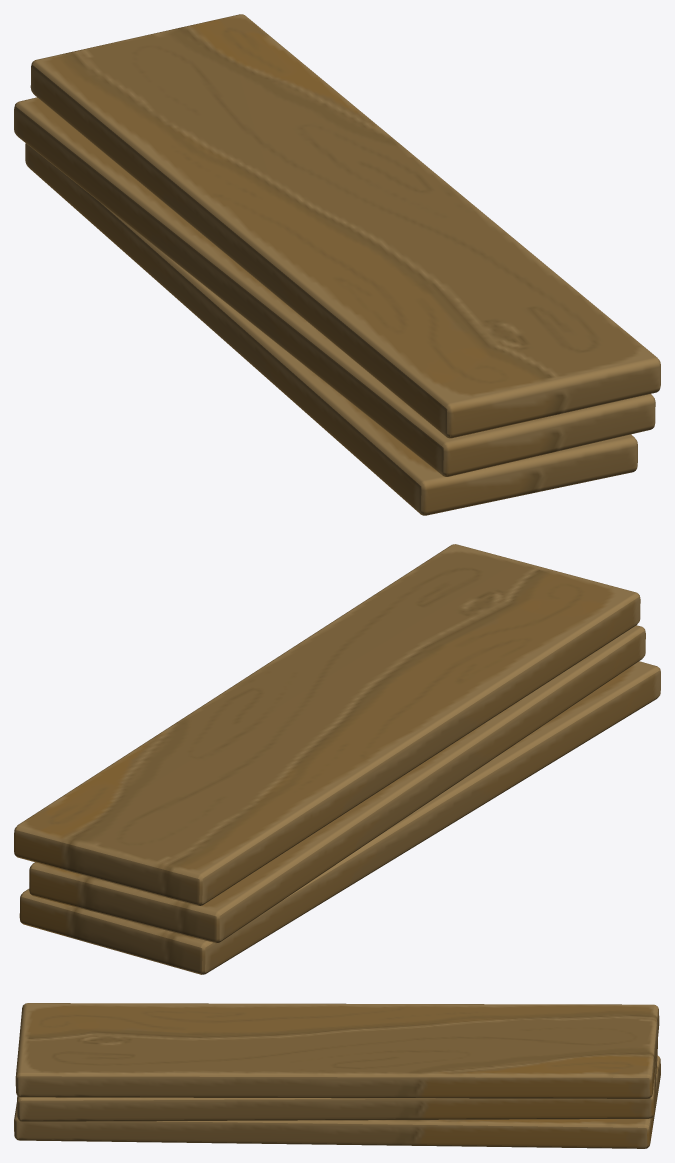
Rendered from Plankor_pussel1.fbx.
3 renders of one model, top to bottom at view 1: azimuth 30°, elevation 25°; view 2: azimuth 150°, elevation 25°; view 3: azimuth 270°, elevation 25°, orthographic. The views are drawn at different scales.
Parts seen in each view (by area): view 1: polySurface53, polySurface54, polySurface52; view 2: polySurface53, polySurface54, polySurface52; view 3: polySurface53, polySurface52, polySurface54.
Part boxes in pixels (x1=…): polySurface53: x1=30, y1=14, x2=660, y2=438; polySurface54: x1=14, y1=97, x2=655, y2=476; polySurface52: x1=25, y1=143, x2=637, y2=515; polySurface53: x1=14, y1=544, x2=640, y2=905; polySurface54: x1=29, y1=625, x2=645, y2=943; polySurface52: x1=19, y1=661, x2=660, y2=974; polySurface53: x1=15, y1=1003, x2=659, y2=1098; polySurface52: x1=14, y1=1055, x2=660, y2=1148; polySurface54: x1=17, y1=1040, x2=657, y2=1121.
Bounding box in the file's own units: 0.8205 × 0.3571 × 2.46.
